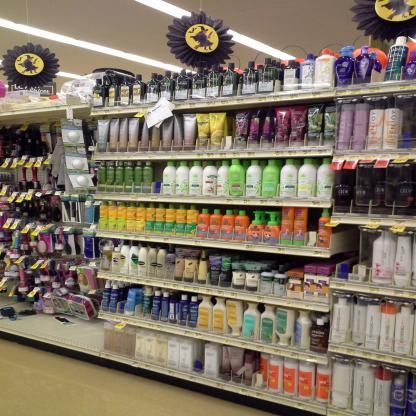Void: (23, 314, 105, 346), (338, 226, 357, 260), (193, 344, 203, 373), (154, 165, 162, 194)
